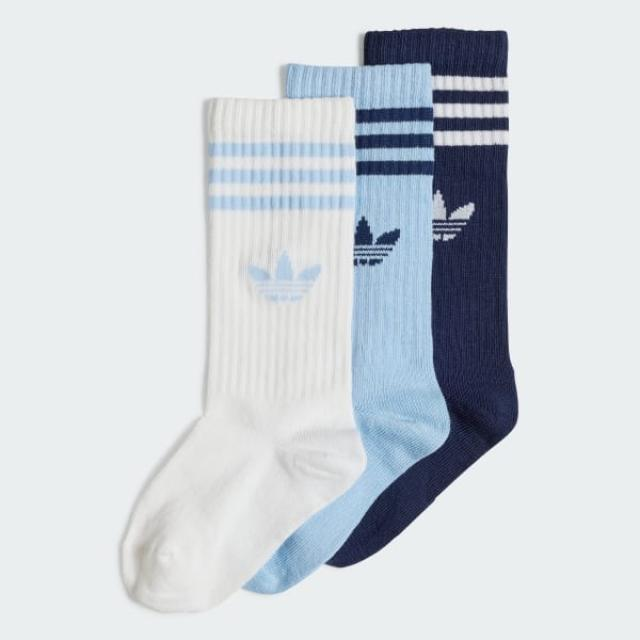sock: (117, 94, 367, 613), (242, 60, 451, 594), (324, 27, 518, 570)
